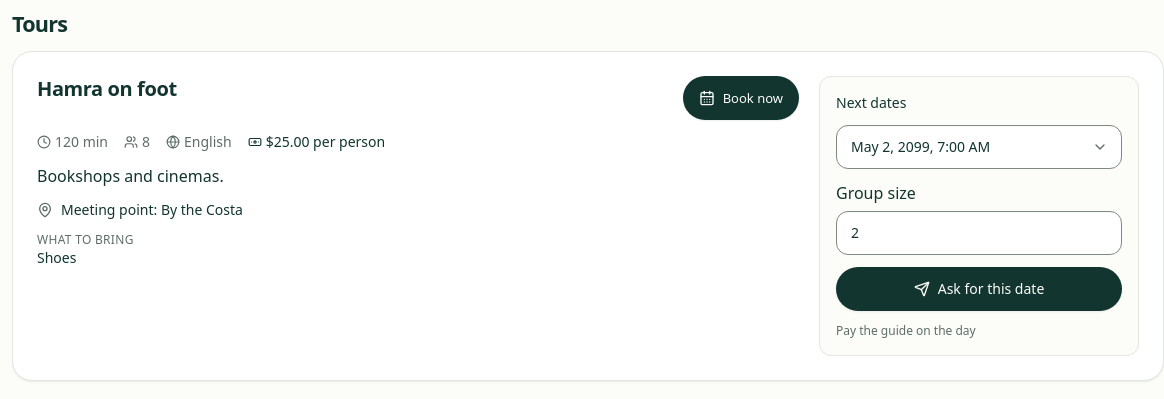
Test case: guide tours and requests › asks for a tour date with an idempotency key and promises payment on the day
Expected: the text "Pay the guide on the day" is shown, x1=836 y1=322 x2=976 y2=339
Click the button "Ask for this date" at (979, 289), box x1=836 y1=267 x2=1122 y2=311
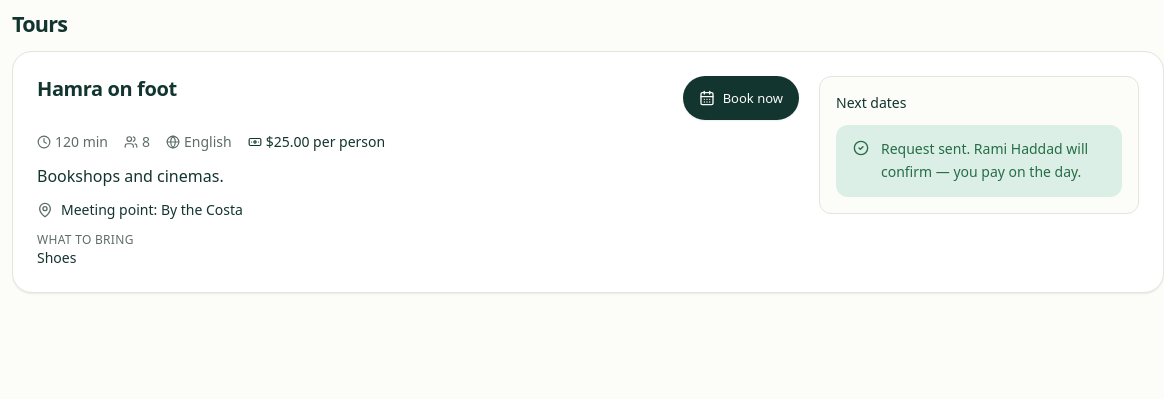
Result: the text "Request sent. Rami Haddad will confirm — you pay on the day." is shown at x1=881 y1=138 x2=1105 y2=184
